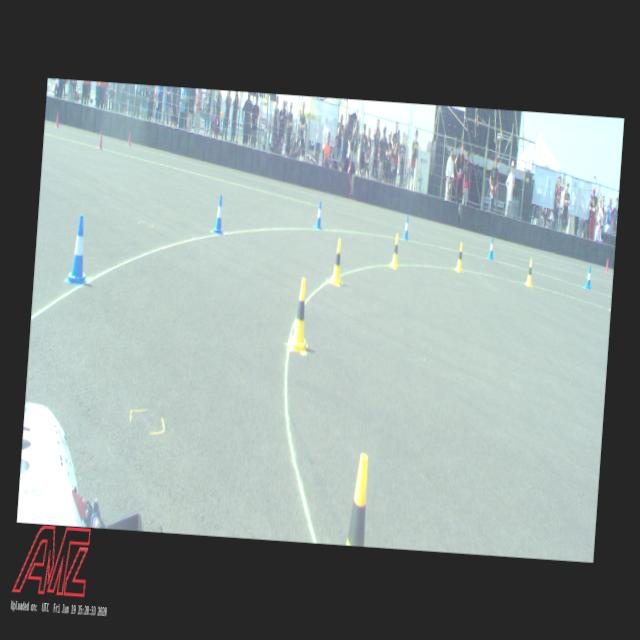blue_cone: (64, 213, 92, 285), (212, 194, 225, 235), (314, 200, 323, 229), (584, 266, 592, 290), (487, 236, 495, 259), (402, 215, 409, 240)
yellow_cone: (344, 452, 371, 546), (288, 276, 312, 353), (329, 237, 344, 286), (390, 233, 400, 269), (524, 258, 534, 286), (455, 241, 464, 272)
